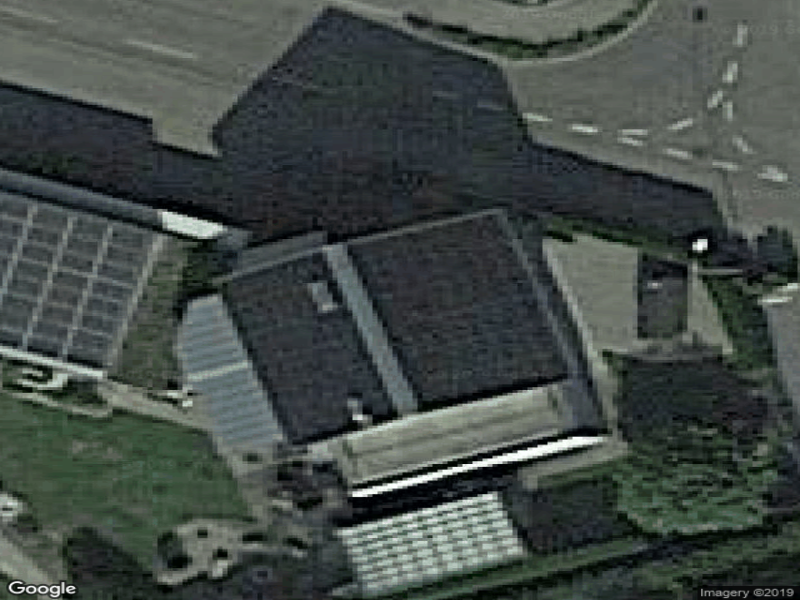pv: (346, 219, 570, 414), (220, 251, 403, 446), (1, 190, 161, 371)
